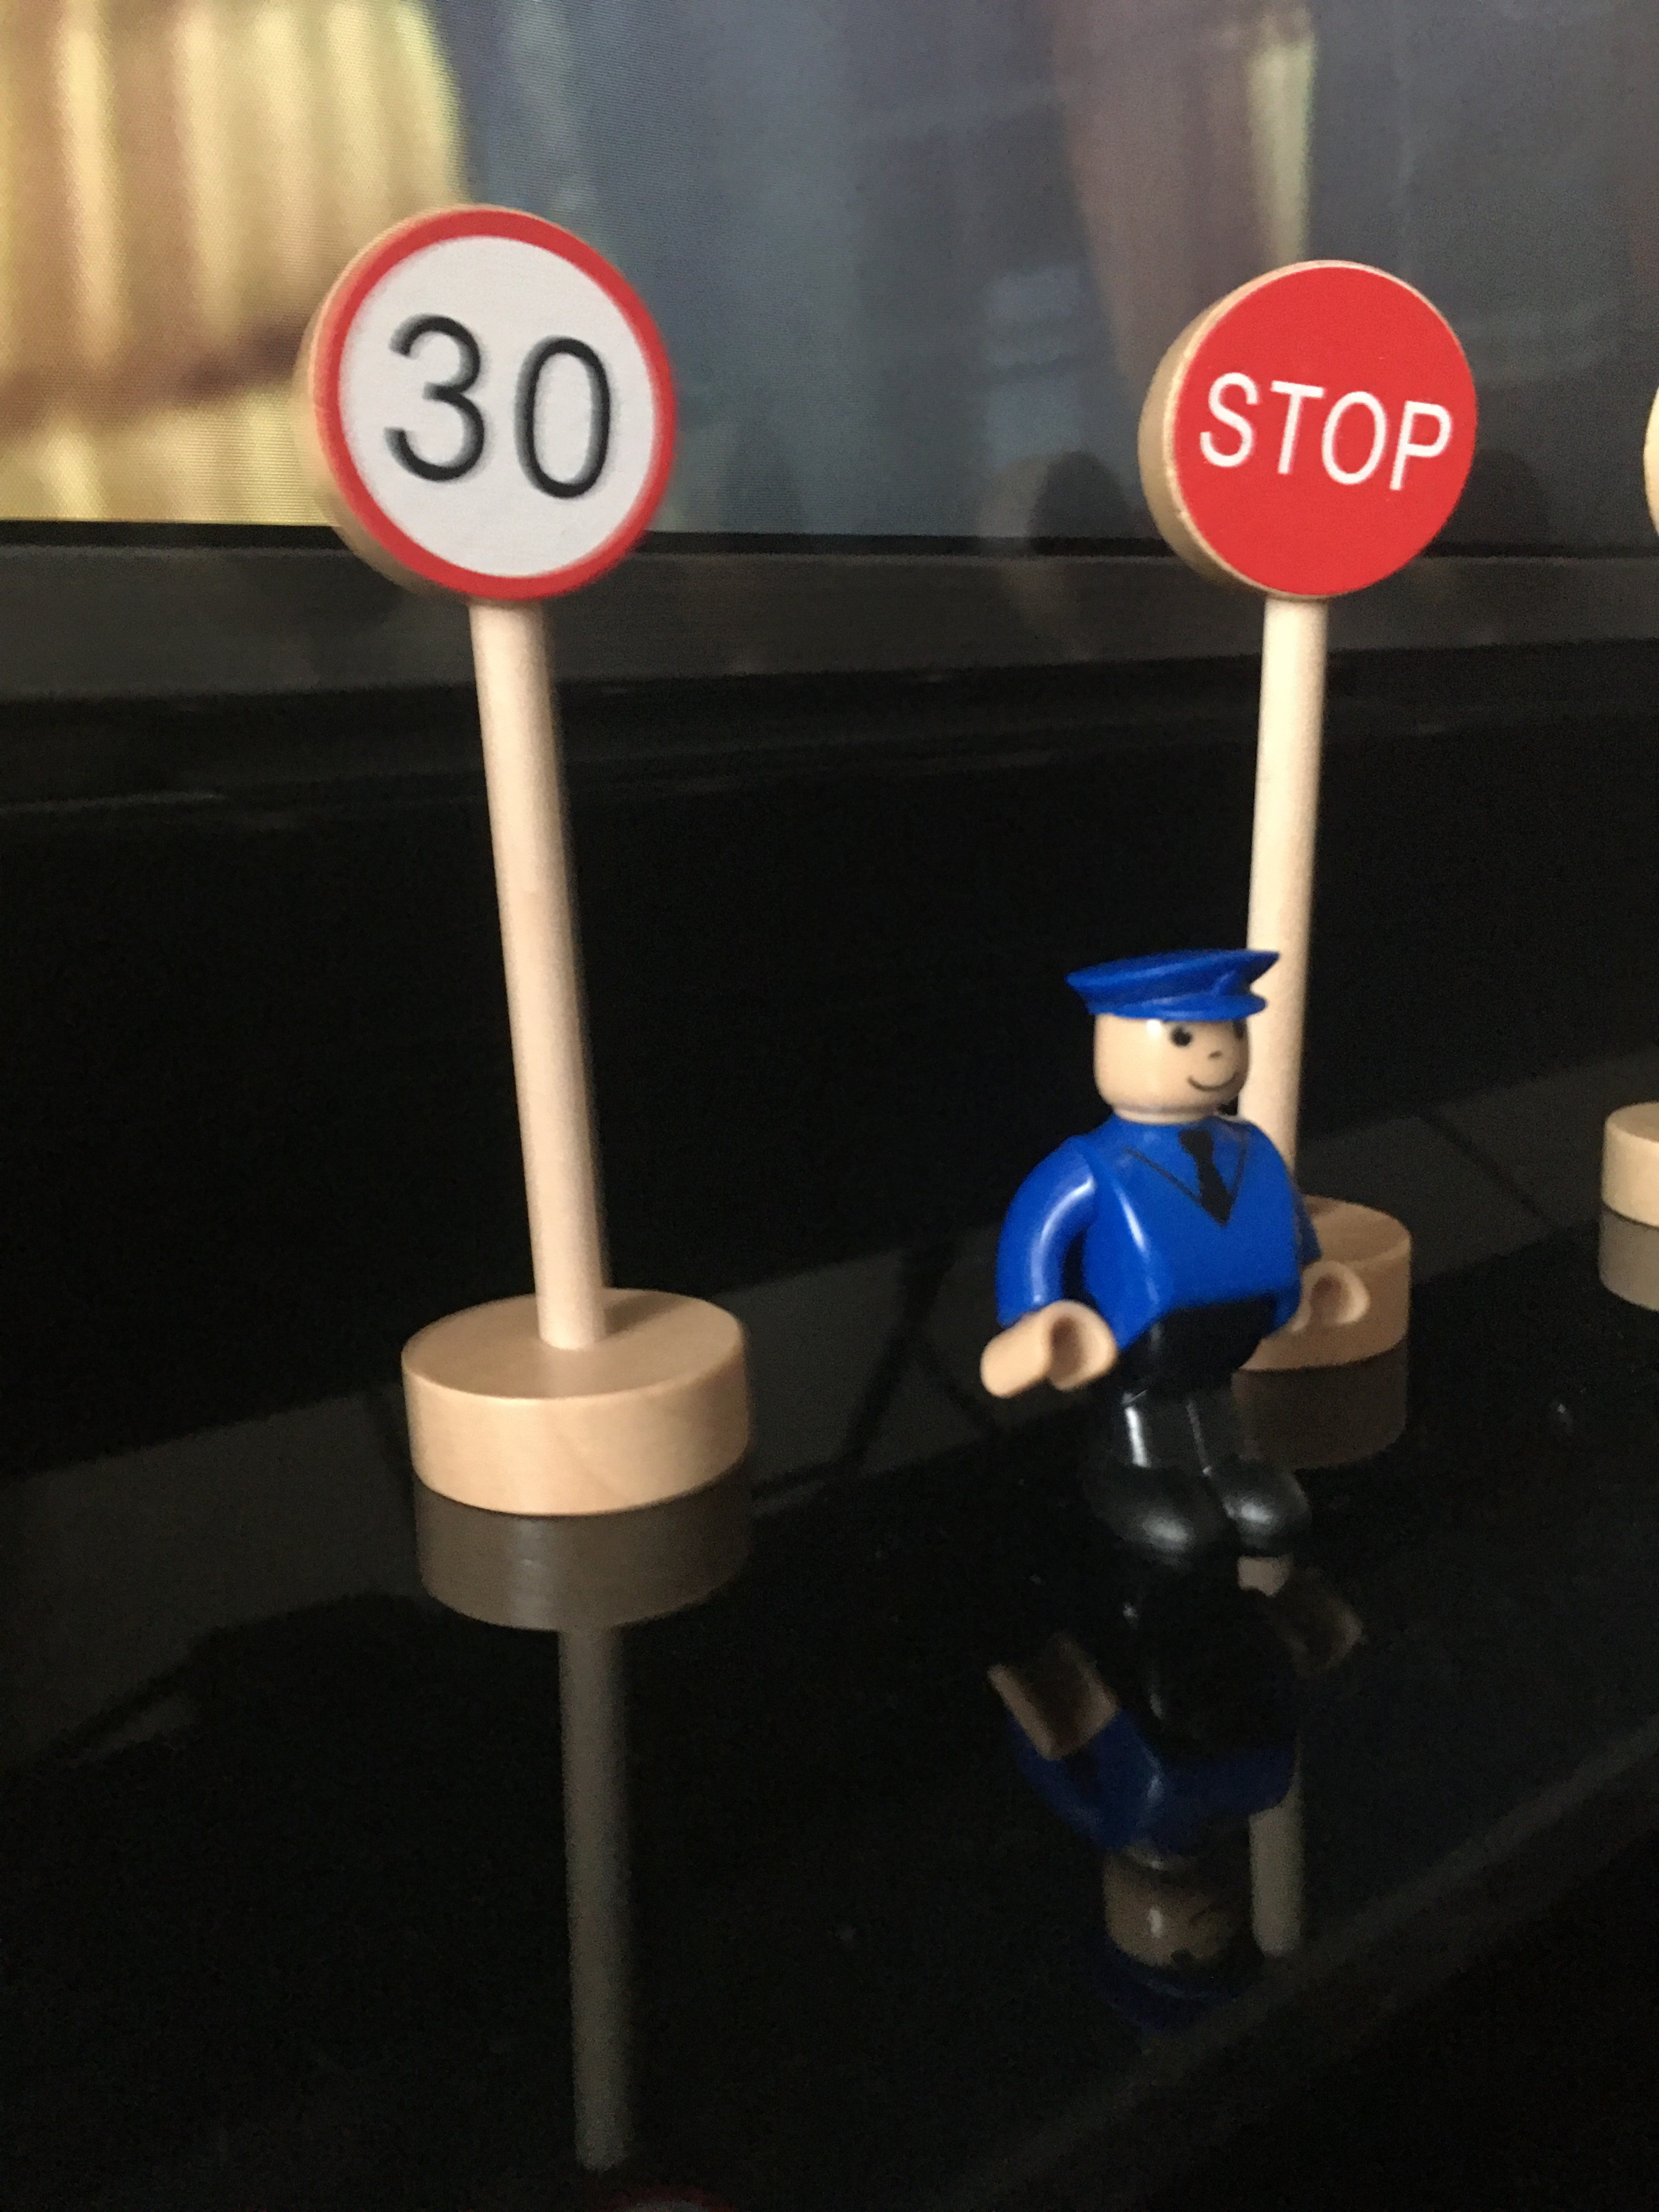Traffic_Sign_30: (315, 212, 675, 589)
Traffic_Sign_Stop: (1167, 258, 1480, 618)
person: (969, 940, 1379, 1598)
